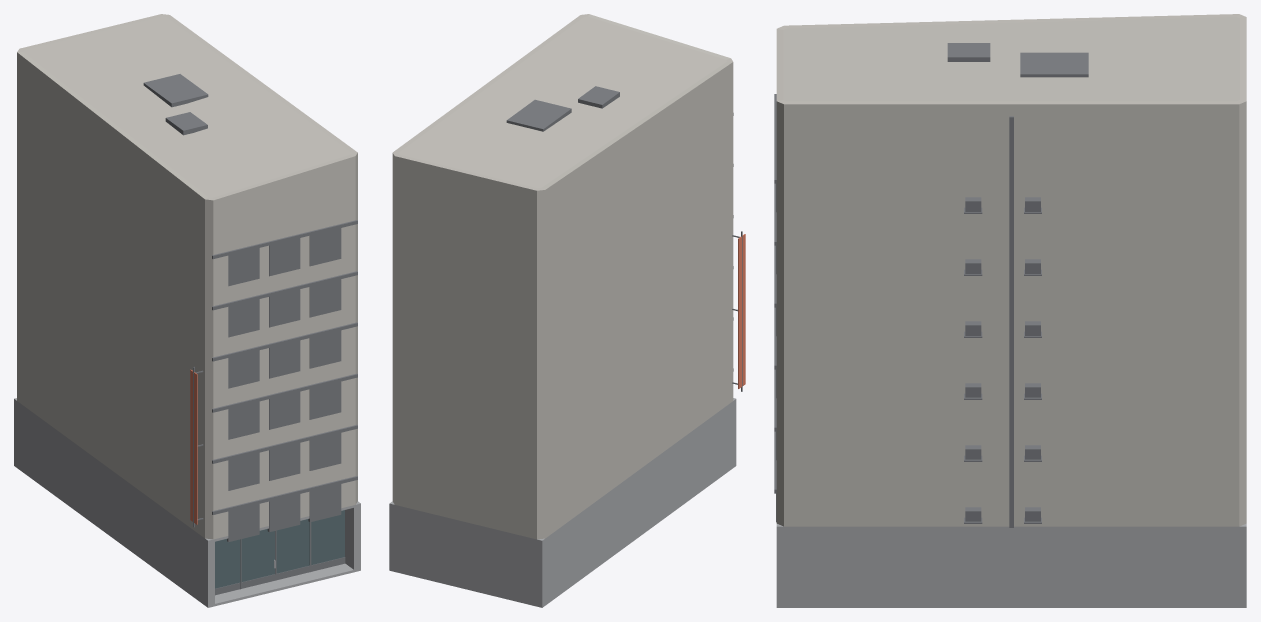
File: pencil_building_b.glb
3 renders of one model, left to right at view 1: azimuth 30°, elevation 25°; view 2: azimuth 150°, elevation 25°; view 3: azimuth 270°, elevation 25°, orthographic. The views are drawn at different scales.
Visible parts, largest first — view 1: pencil_building_b; view 2: pencil_building_b; view 3: pencil_building_b.
Part boxes in pixels (x1,y1,x2,y2): pencil_building_b: (14, 14, 360, 607); pencil_building_b: (389, 14, 745, 607); pencil_building_b: (774, 14, 1246, 607).
Bounding box in the file's own units: 11.28 × 26 × 22.11.
